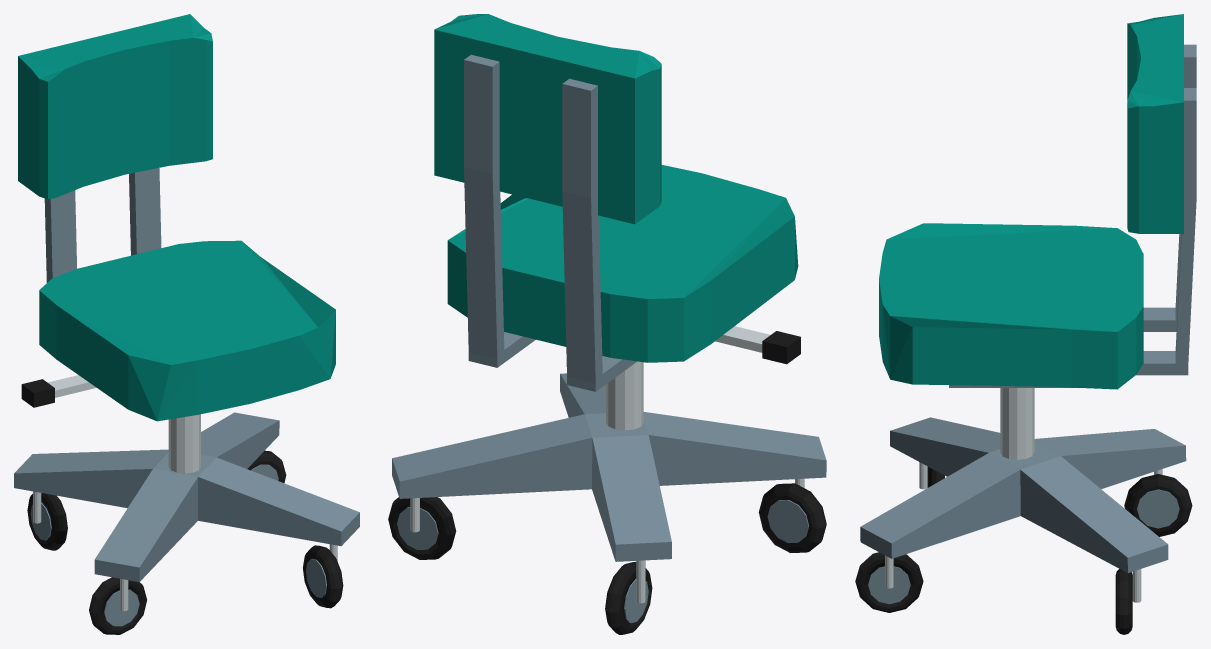
Rendered from GreenOfficeWheelChair.glb.
3 renders of one model, left to right at view 1: azimuth 30°, elevation 25°; view 2: azimuth 150°, elevation 25°; view 3: azimuth 270°, elevation 25°, orthographic. The views are drawn at different scales.
Visible parts, largest first — view 1: group1245598860, group1058027361, group646429156, group1933021004, group772163389, group173738516, group2136273154, group1306767648, group1994826846, group2011453973, group1665730989, group1207590718; view 2: group1245598860, group646429156, group1058027361, group772163389, group173738516, group1933021004, group1665730989, group1306767648, group1994826846, group2011453973, group1740633080, group365807116 (+1 smaller); view 3: group1245598860, group646429156, group1058027361, group772163389, group2136273154, group1306767648, group1994826846, group1665730989, group365807116, group1740633080, group173738516.
Boxes of the visible parts, x1,y1,x2,y2 form: group1245598860: (39,240,335,421); group1058027361: (18,14,212,199); group646429156: (14,412,359,581); group1933021004: (89,577,146,634); group772163389: (129,168,161,255); group173738516: (44,190,76,282); group2136273154: (303,544,343,608); group1306767648: (27,491,67,550); group1994826846: (168,414,200,473); group2011453973: (21,379,54,407); group1665730989: (247,450,286,482); group1207590718: (48,375,96,397); group1245598860: (447,165,798,362); group646429156: (392,373,826,561); group1058027361: (434,14,661,224); group772163389: (464,54,504,359); group173738516: (562,78,602,383); group1933021004: (758,478,826,552); group1665730989: (388,497,456,559); group1306767648: (605,560,652,634); group1994826846: (606,361,643,430); group2011453973: (762,331,800,364); group1740633080: (567,356,636,391); group365807116: (468,332,535,367); group1245598860: (879,223,1143,389); group646429156: (860,417,1186,572); group1058027361: (1127,14,1183,233); group772163389: (1175,88,1196,367); group2136273154: (855,552,923,612); group1306767648: (1124,469,1192,536); group1994826846: (1000,388,1034,459); group1665730989: (1115,569,1141,634); group365807116: (1136,351,1188,375); group1740633080: (1143,307,1176,331); group173738516: (1175,44,1196,324).
Bounding box in the file's own units: 0.86 × 1.33 × 0.8.
